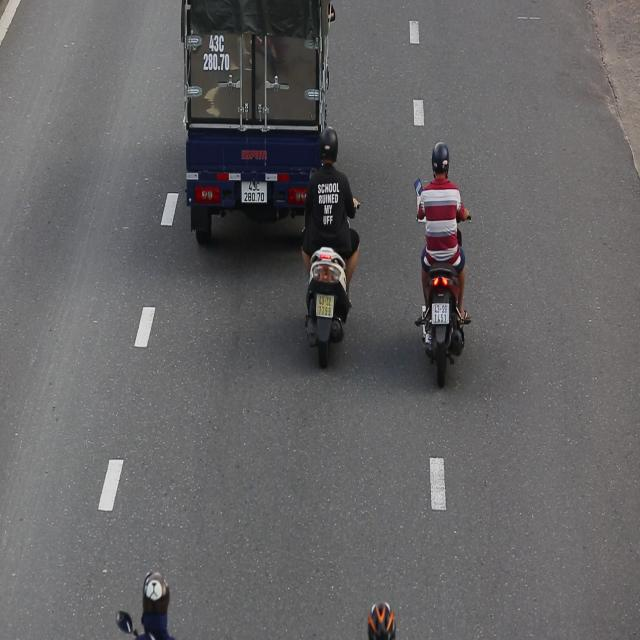motorbike: (412, 144, 472, 388), (302, 125, 361, 364)
